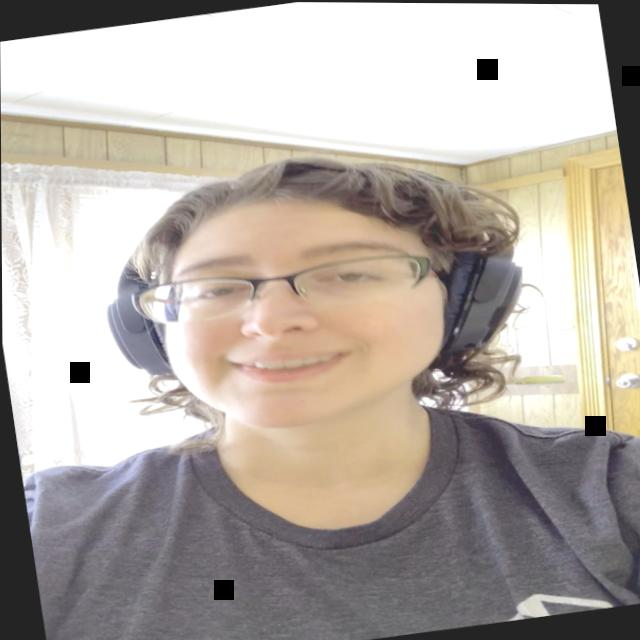NO-Mask: (140, 172, 467, 447)
